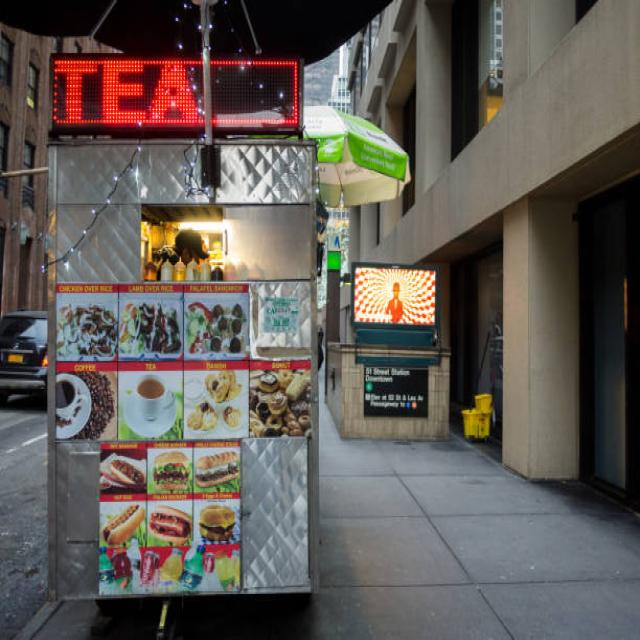Emperan: (23, 42, 358, 640)
